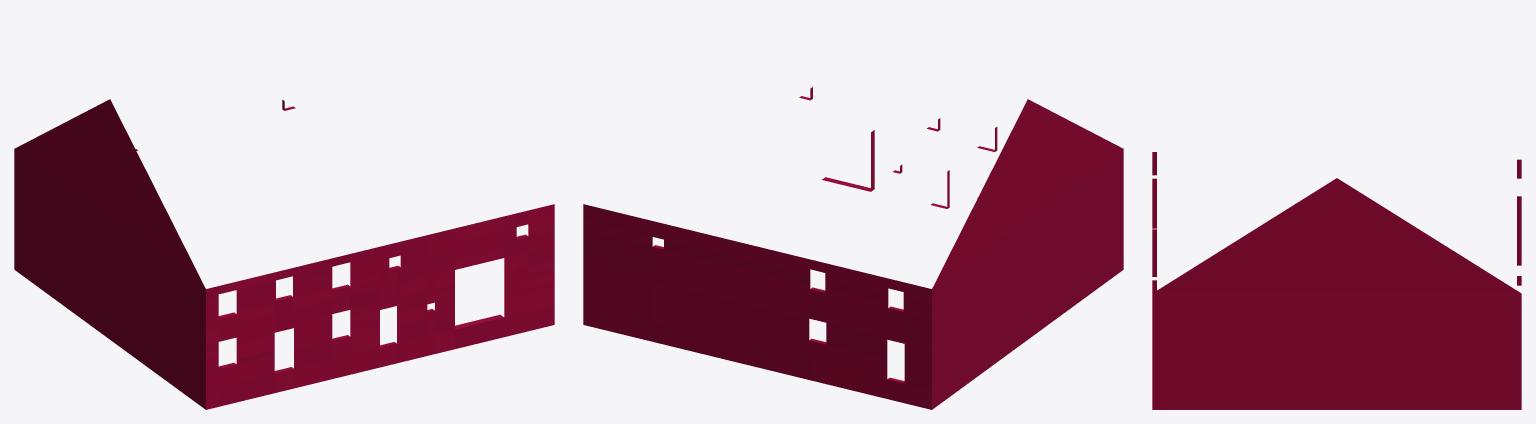
File: SM_Bld_023_Masonry.glb
3 views of the same model, side by side, from view 1: azimuth 30°, elevation 25°; view 2: azimuth 150°, elevation 25°; view 3: azimuth 270°, elevation 25° (orthographic). The views are drawn at different scales.
Visible parts, largest first — view 1: SM_Bld_023_Masonry; view 2: SM_Bld_023_Masonry; view 3: SM_Bld_023_Masonry.
Part boxes in pixels (x1,y1,x2,y2): SM_Bld_023_Masonry: (14,99,554,409); SM_Bld_023_Masonry: (583,87,1123,409); SM_Bld_023_Masonry: (1152,152,1521,409).
Size of the model in its own units: 18.42 by 12.15 by 17.54.
